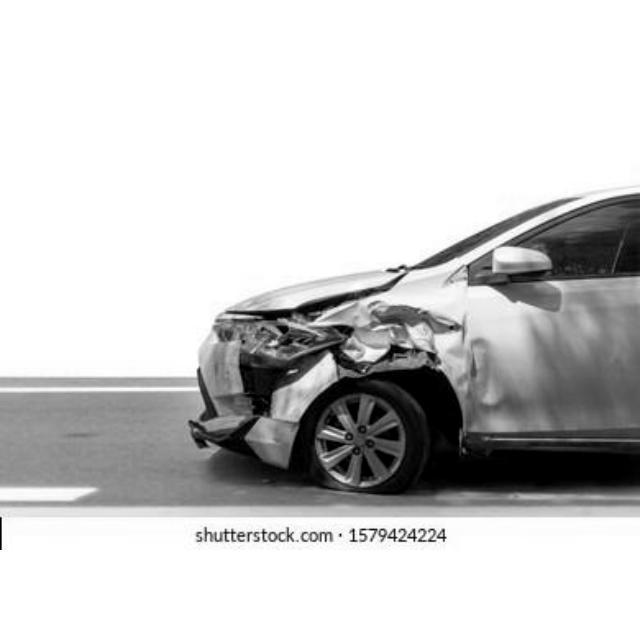bonnet-dent: (304, 263, 405, 308)
front-bumper-dent: (210, 313, 472, 465)
